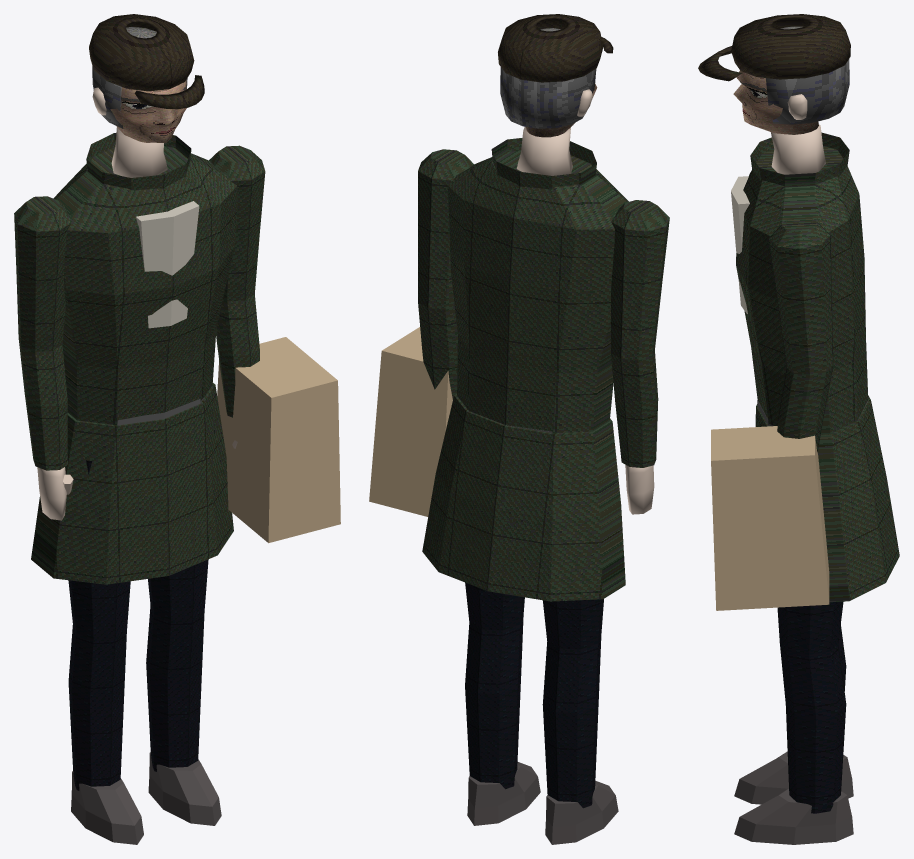
File: char_resident_a.glb
3 renders of one model, left to right at view 1: azimuth 30°, elevation 25°; view 2: azimuth 150°, elevation 25°; view 3: azimuth 270°, elevation 25°, orthographic.
Parts seen in each view (by area): view 1: JacketTorso, CoatSkirt, GroceryBag, ArmSleeve_L, LegL_Pivot_Leg, LegR_Pivot_Leg, ArmSleeve_R, CapDome, ShirtCollar, LegR_Pivot_Boot, LegL_Pivot_Boot, OrganicHeadMesh (+5 smaller); view 2: JacketTorso, CoatSkirt, ArmSleeve_L, LegL_Pivot_Leg, GroceryBag, LegR_Pivot_Leg, ArmSleeve_R, CapDome, HairUnderCap, LegL_Pivot_Boot, LegR_Pivot_Boot, JacketCollarRim (+2 smaller); view 3: GroceryBag, JacketTorso, LegR_Pivot_Leg, CoatSkirt, ArmSleeve_R, CapDome, LegR_Pivot_Boot, HairUnderCap, OrganicHeadMesh, LegL_Pivot_Boot, NeckOrganic, JacketCollarRim (+3 smaller).
Boxes of the visible parts, x1,y1,x2,y2 form: JacketTorso: [53, 146, 237, 425]; CoatSkirt: [31, 382, 233, 584]; GroceryBag: [217, 337, 340, 543]; ArmSleeve_L: [14, 196, 71, 470]; LegL_Pivot_Leg: [68, 460, 130, 790]; LegR_Pivot_Leg: [146, 430, 214, 771]; ArmSleeve_R: [209, 145, 265, 417]; CapDome: [89, 14, 194, 91]; ShirtCollar: [136, 201, 199, 328]; LegR_Pivot_Boot: [148, 752, 221, 825]; LegL_Pivot_Boot: [71, 771, 143, 844]; OrganicHeadMesh: [110, 27, 186, 143]; JacketTorso: [447, 150, 628, 433]; CoatSkirt: [422, 394, 625, 601]; ArmSleeve_L: [611, 200, 669, 467]; LegL_Pivot_Leg: [542, 599, 603, 808]; GroceryBag: [369, 327, 452, 516]; LegR_Pivot_Leg: [465, 582, 524, 789]; ArmSleeve_R: [418, 149, 473, 399]; CapDome: [498, 14, 603, 82]; HairUnderCap: [500, 67, 596, 128]; LegL_Pivot_Boot: [545, 780, 618, 844]; LegR_Pivot_Boot: [467, 762, 540, 825]; JacketCollarRim: [491, 138, 596, 189]; GroceryBag: [711, 426, 829, 610]; JacketTorso: [736, 146, 868, 434]; LegR_Pivot_Leg: [777, 601, 846, 813]; CoatSkirt: [755, 395, 899, 602]; ArmSleeve_R: [768, 216, 833, 452]; CapDome: [731, 14, 850, 79]; LegR_Pivot_Boot: [734, 788, 853, 844]; HairUnderCap: [766, 59, 849, 124]; OrganicHeadMesh: [733, 26, 818, 134]; LegL_Pivot_Boot: [734, 751, 853, 804]; NeckOrganic: [771, 124, 825, 174]; JacketCollarRim: [750, 132, 849, 186].
Size of the model in its own units: 0.6616 by 1.77 by 0.4091.
Materials: 10 (5 with a texture image).
